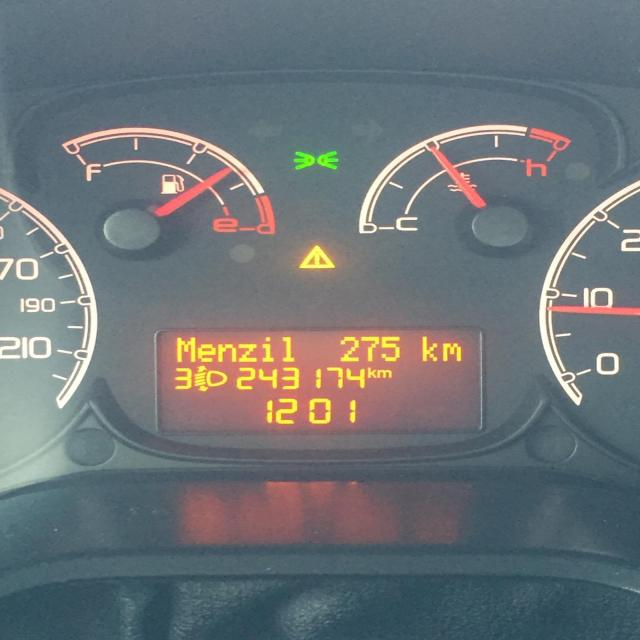odometer: (152, 326, 485, 435)
